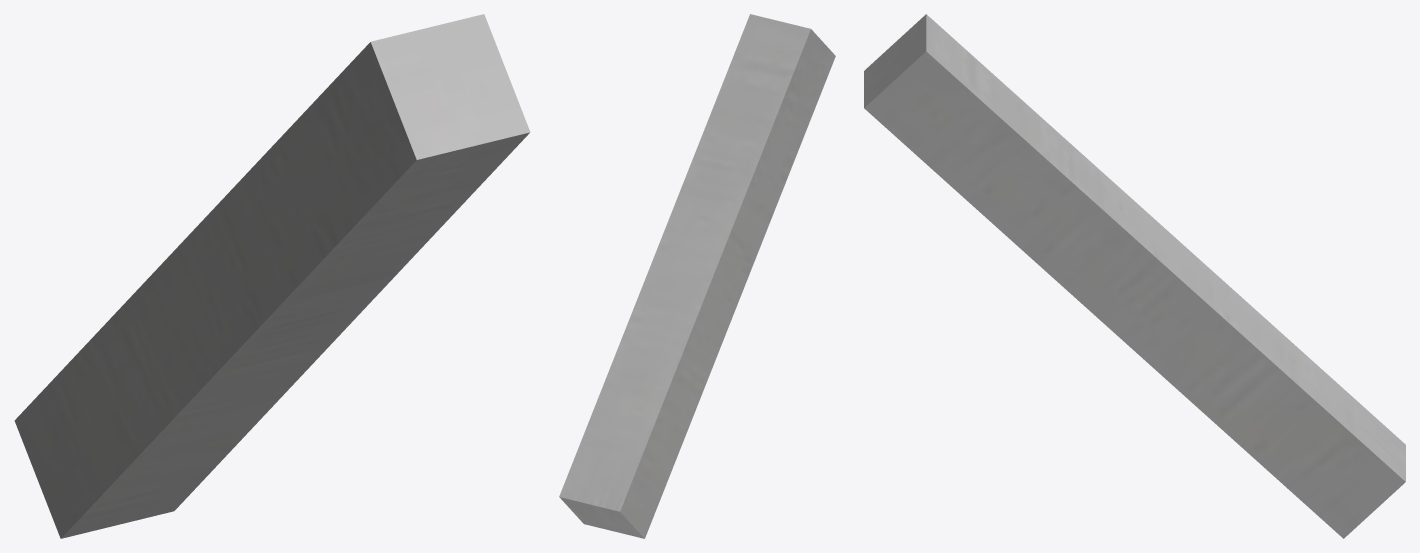
The model's file is main_frame__front_leg_0.glb.
3 views of the same model, side by side, from view 1: azimuth 30°, elevation 25°; view 2: azimuth 150°, elevation 25°; view 3: azimuth 270°, elevation 25° (orthographic). The views are drawn at different scales.
Parts seen in each view (by area): view 1: geometry_0; view 2: geometry_0; view 3: geometry_0.
Part boxes in pixels (x1,y1,x2,y2): geometry_0: [14, 14, 530, 538]; geometry_0: [559, 14, 835, 538]; geometry_0: [864, 14, 1405, 538].
Bounding box in the file's own units: 0.055 × 0.3347 × 0.3371.
1 material, 1 textured.
